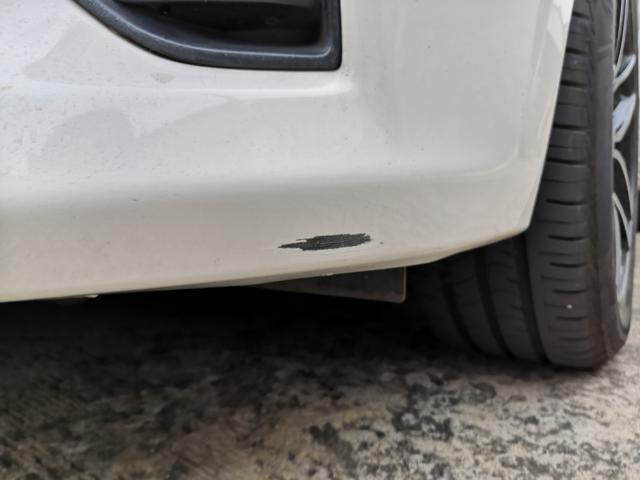scratch: (270, 228, 382, 252)
